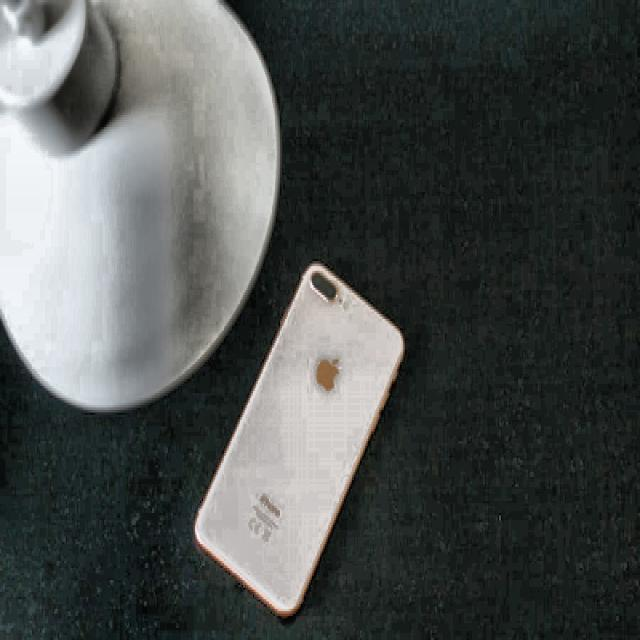Phone: (194, 259, 404, 614)
